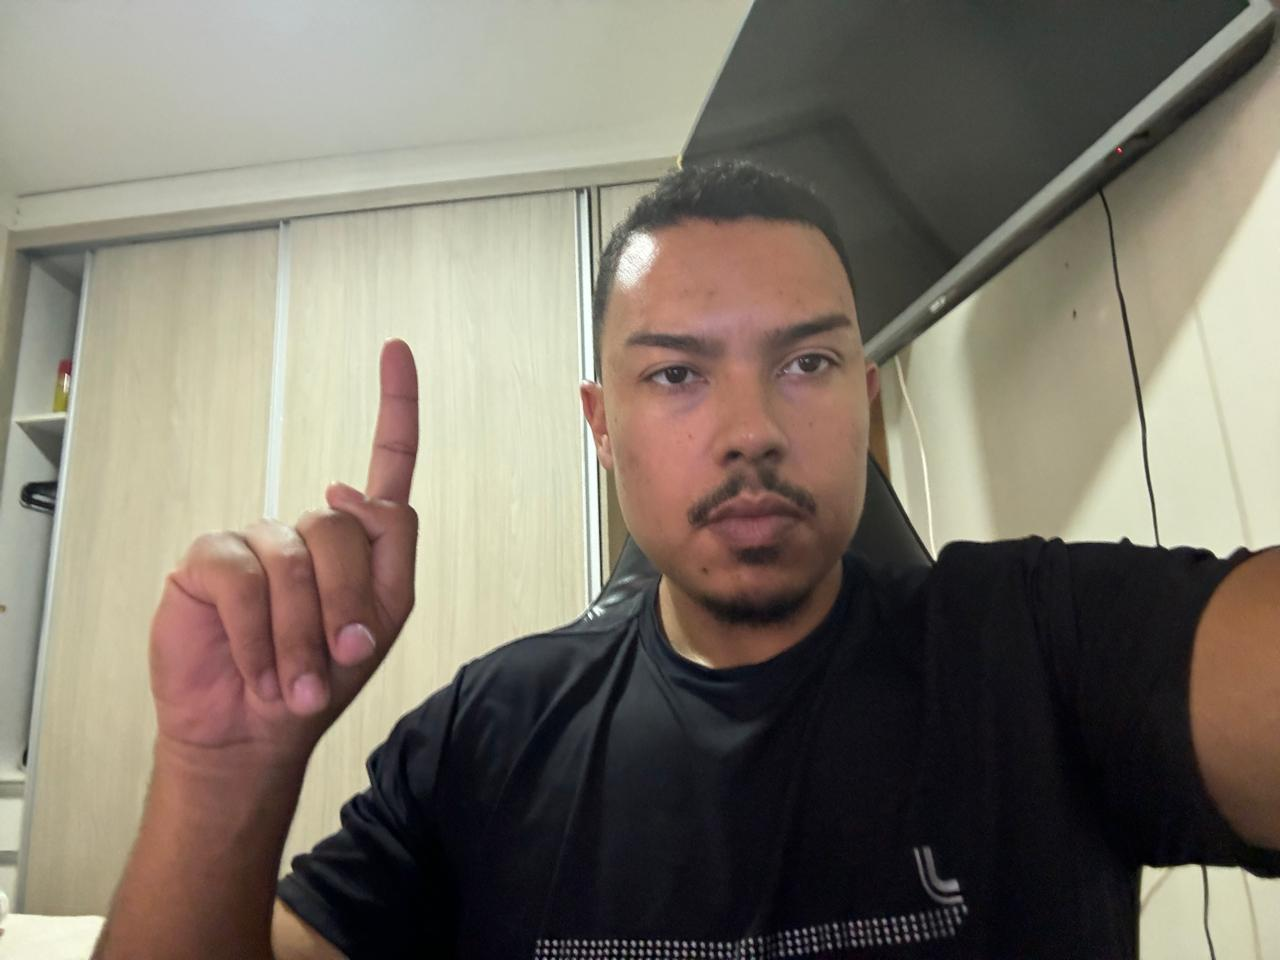z: (129, 328, 442, 749)
